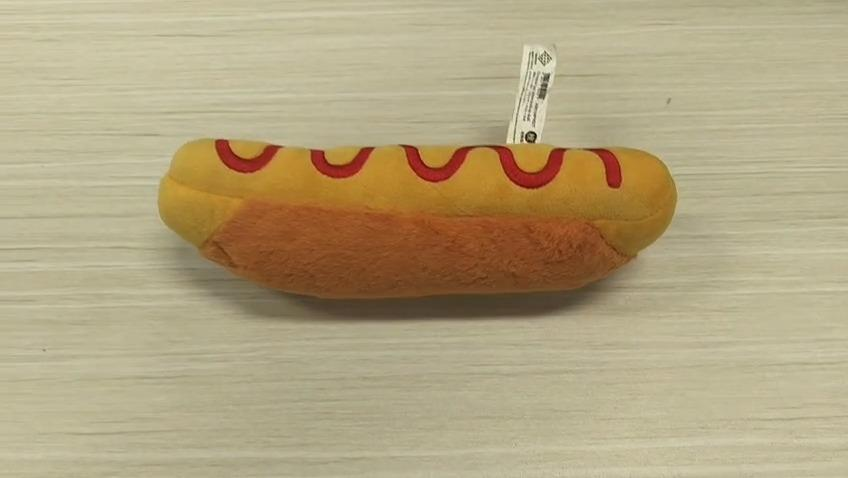hotdog: (156, 135, 678, 300)
